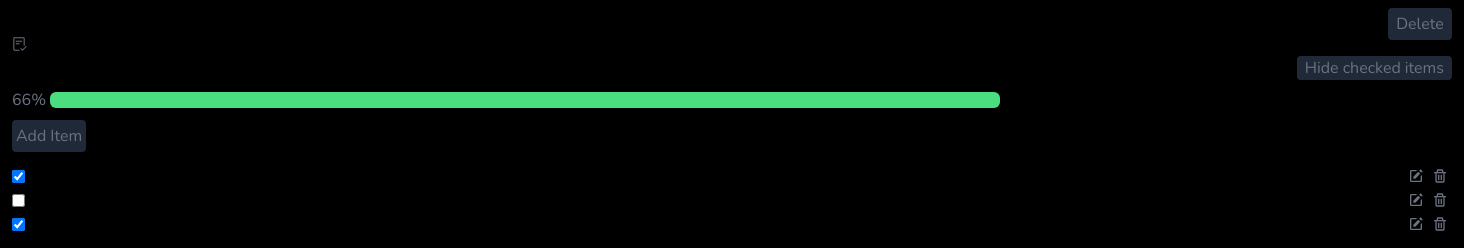
Test: CardCheckList › should toggle hide/show completed items
What coordinates should you click on to do the following:
click the button "Hide checked items"
I would click on:
 (1374, 68)
Its box is 1297,56 -> 1452,80.
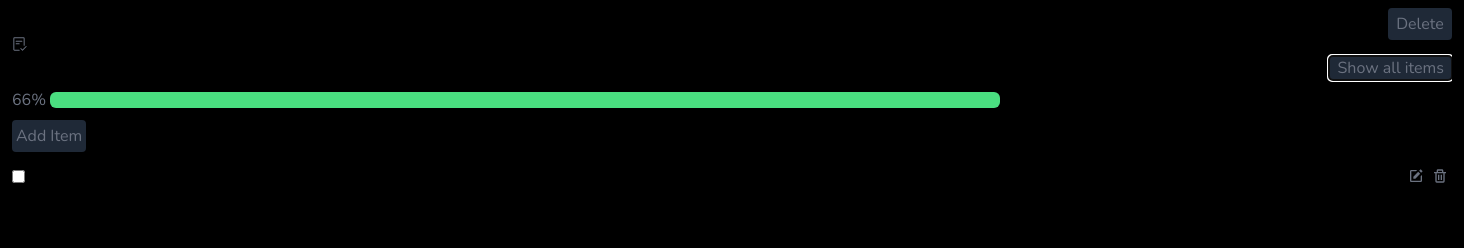
Check: the number of elements with test id "card-checklist-item" is 1, box 12,168 -> 1452,184
